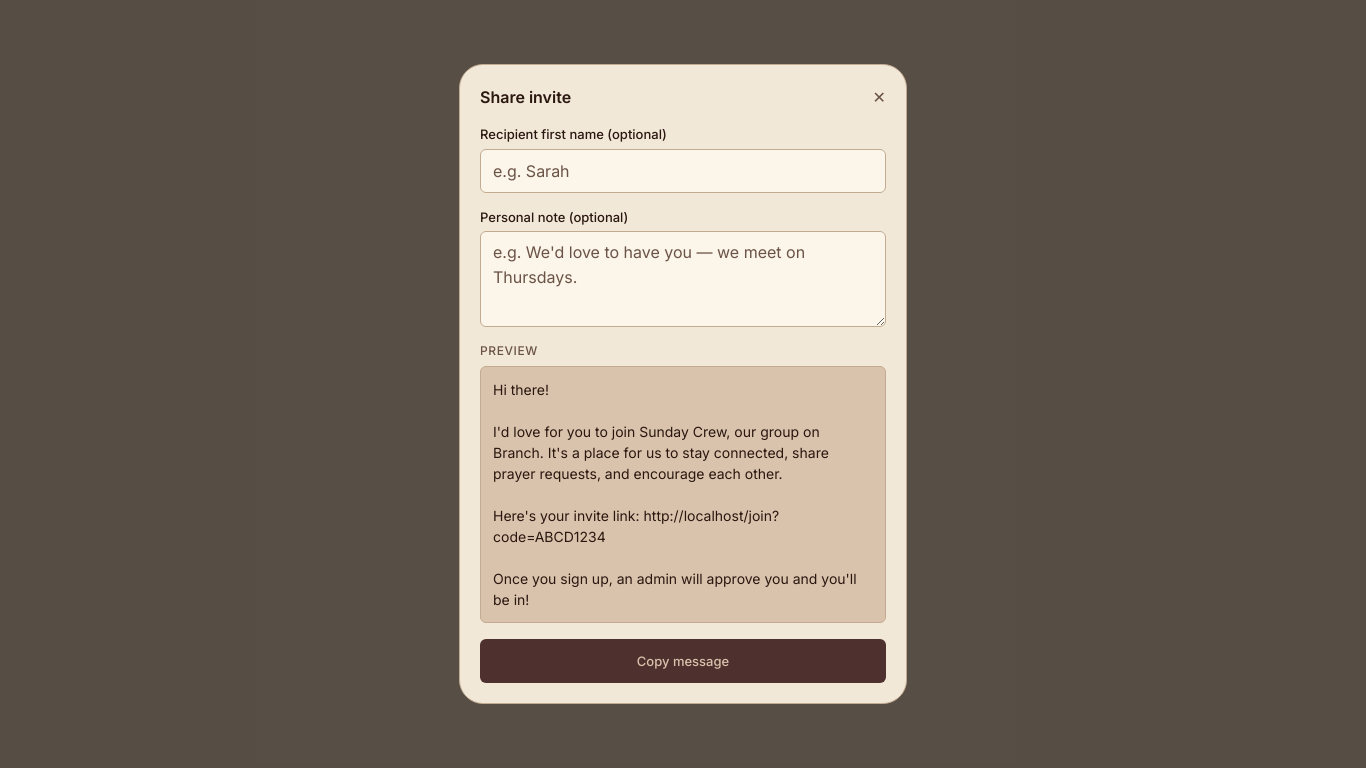
Scenario: InviteMessagePanel › shows Copied! feedback after copy
Click the button "Copy message". click: [683, 661]
box: top-left (480, 639), bottom-right (886, 683)
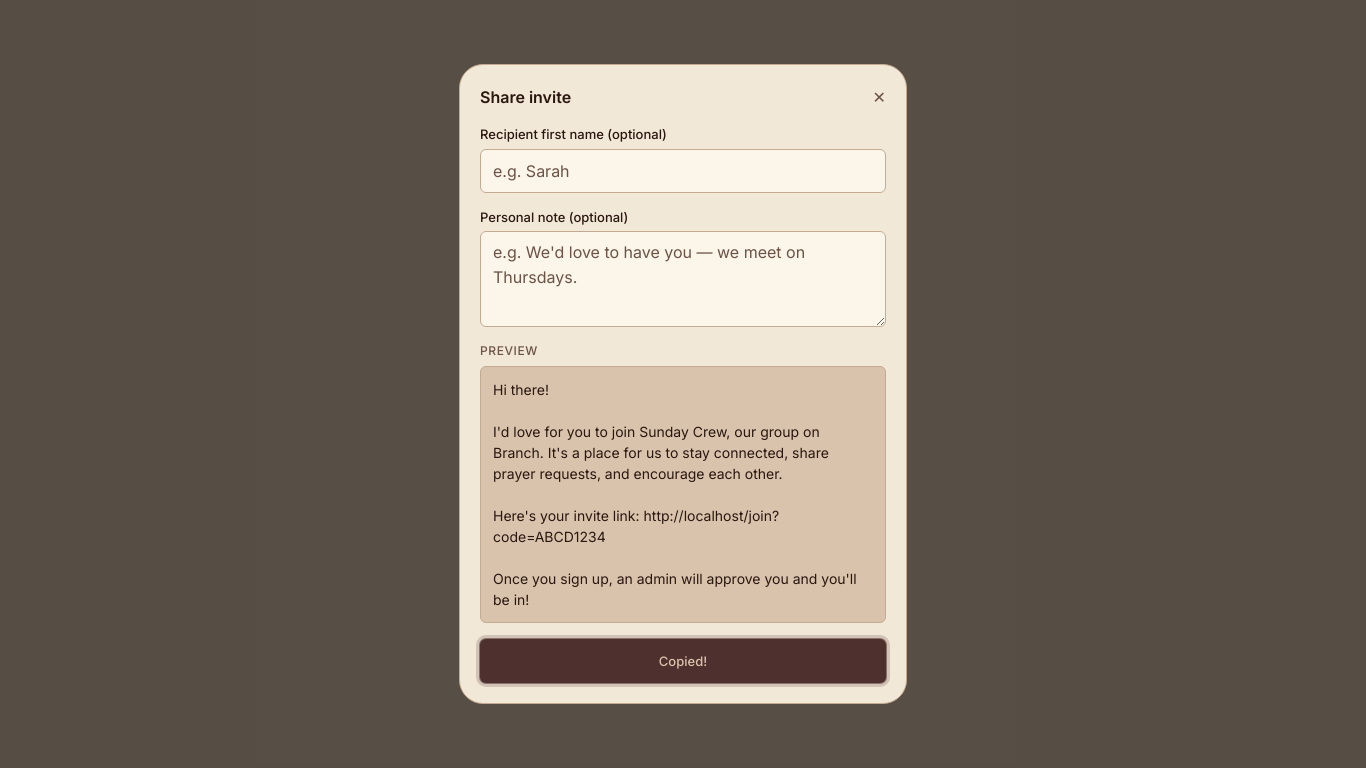
Check: the button "Copied!" is shown, box top-left (480, 639), bottom-right (886, 683)
